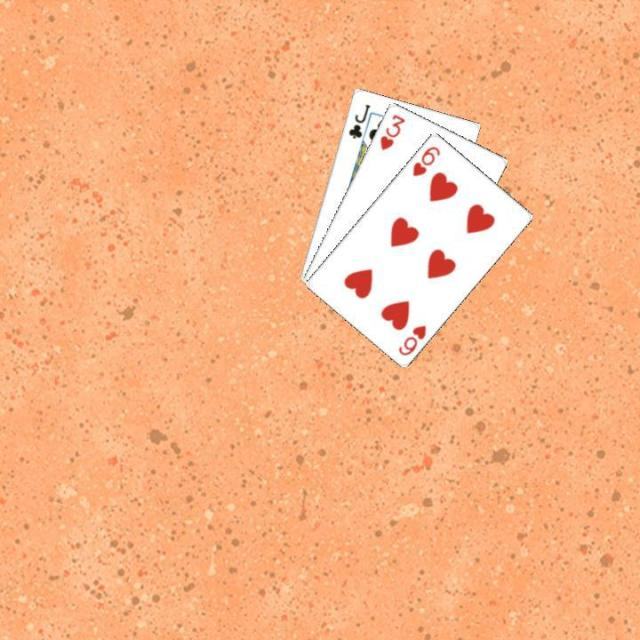3H: (376, 110, 407, 152)
6H: (408, 142, 442, 178), (394, 321, 428, 357)
JC: (344, 100, 372, 140)
